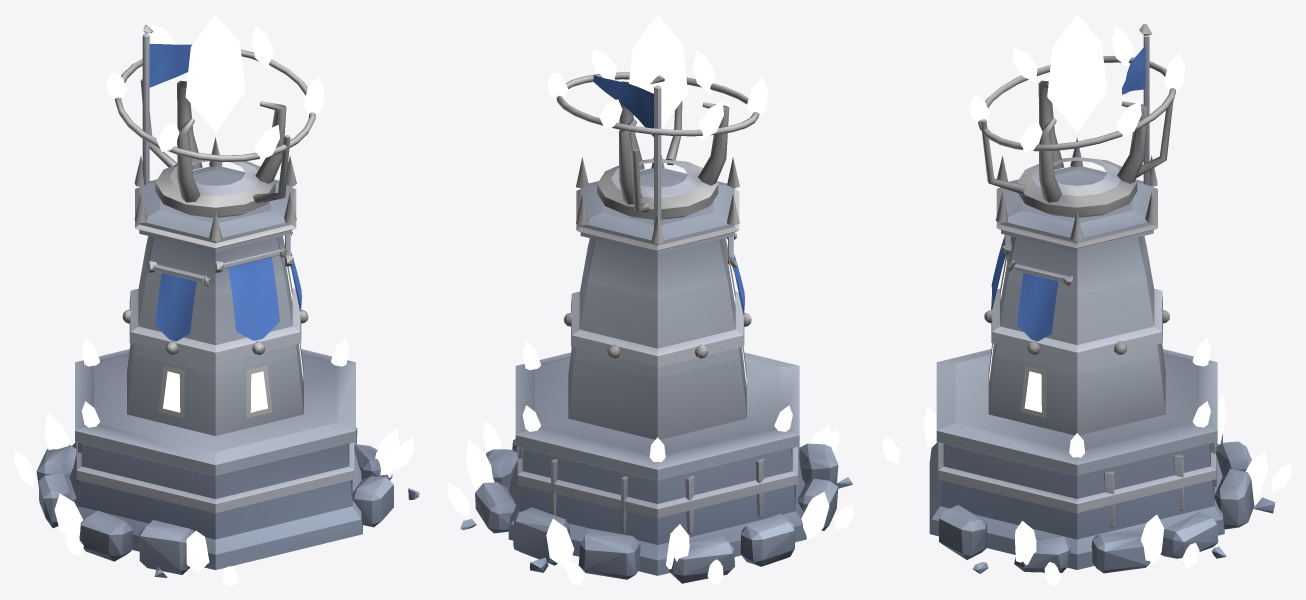
Rendered from frost_2_6.glb.
The picture shows the model from 3 angles, left to right: view 1: azimuth 30°, elevation 25°; view 2: azimuth 150°, elevation 25°; view 3: azimuth 270°, elevation 25°; orthographic projection.
Parts seen in each view (by area): view 1: Tower, Turret; view 2: Tower, Turret; view 3: Tower, Turret.
Boxes of the visible parts, box(x1,y1,x2,y2) form: Tower: box(14, 25, 419, 585); Turret: box(106, 14, 324, 217); Tower: box(448, 75, 853, 585); Turret: box(547, 14, 767, 219); Tower: box(882, 24, 1291, 585); Turret: box(969, 14, 1185, 217).
Bounding box in the file's own units: 4.1 × 5.45 × 4.09.
